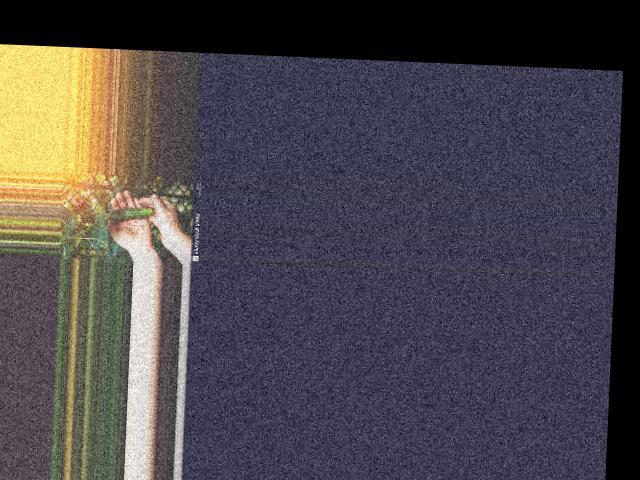cucumber: (110, 205, 153, 223)
